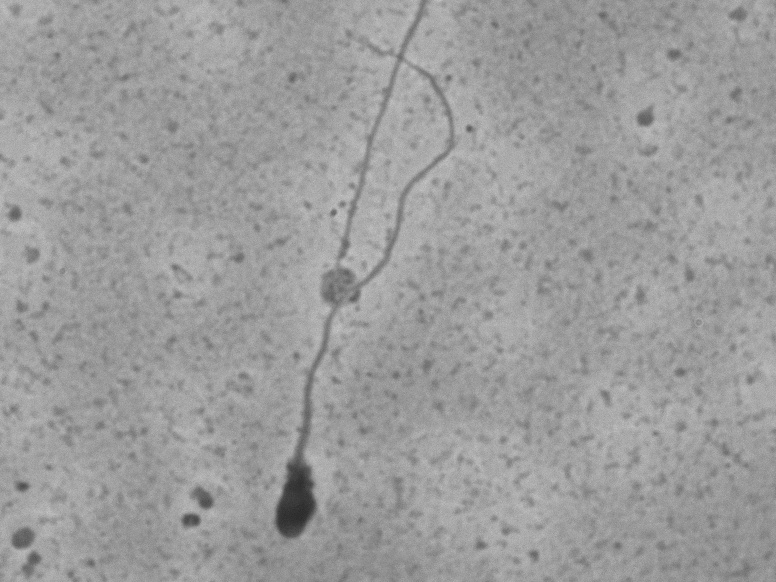Abnormal: (254, 23, 383, 544)
